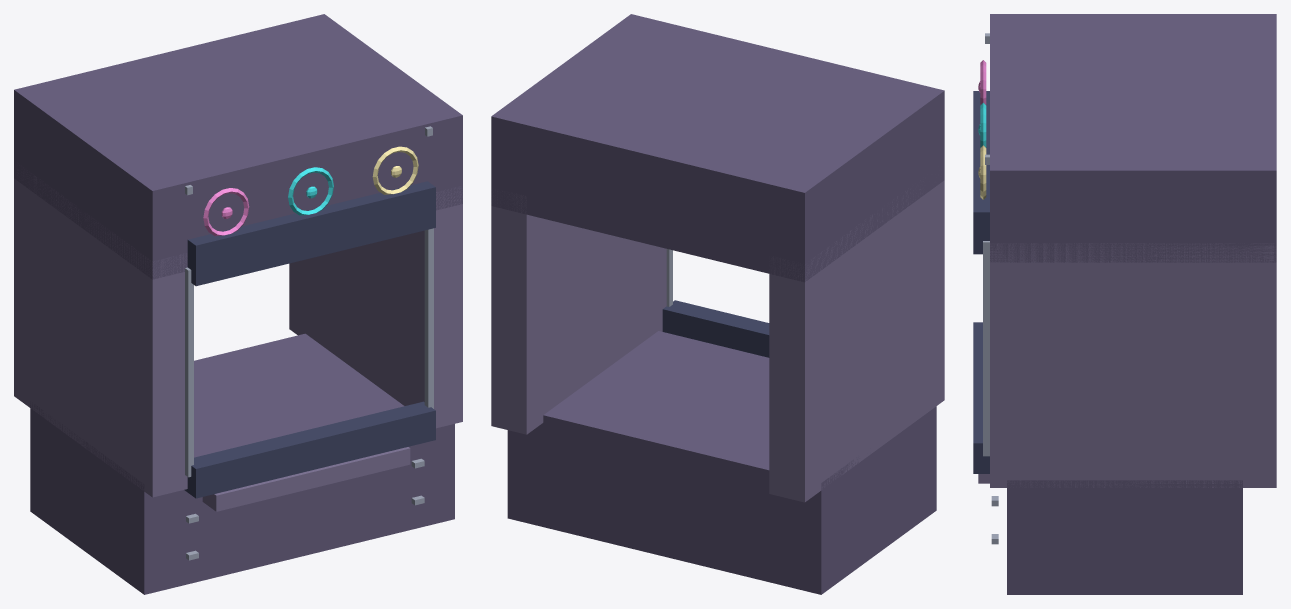
Rendered from gabinete_arcade.glb.
The picture shows the model from 3 angles, left to right: view 1: azimuth 30°, elevation 25°; view 2: azimuth 150°, elevation 25°; view 3: azimuth 270°, elevation 25°; orthographic projection. The views are drawn at different scales.
Visible parts, largest first — view 1: gabinete_arcade; view 2: gabinete_arcade; view 3: gabinete_arcade.
Boxes of the visible parts, x1=… form: gabinete_arcade: x1=14, y1=14, x2=462, y2=594; gabinete_arcade: x1=491, y1=14, x2=944, y2=594; gabinete_arcade: x1=973, y1=14, x2=1276, y2=594.
Size of the model in its own units: 4.4 by 5.55 by 3.6.
